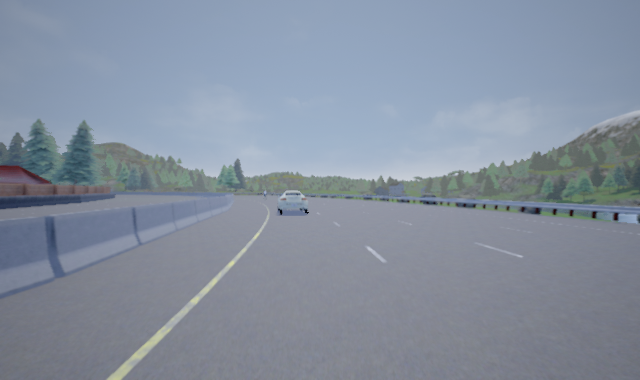vehicle: (276, 190, 310, 215)
